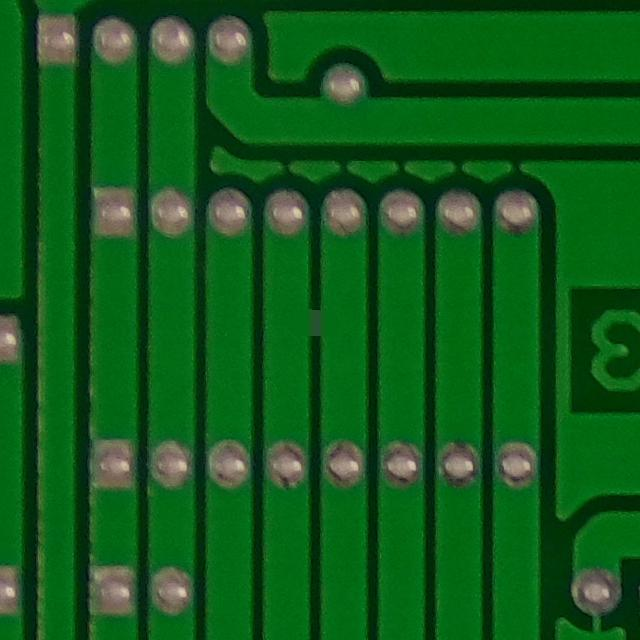short: (278, 276, 362, 364)
